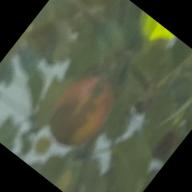Apples: (39, 65, 125, 156)
